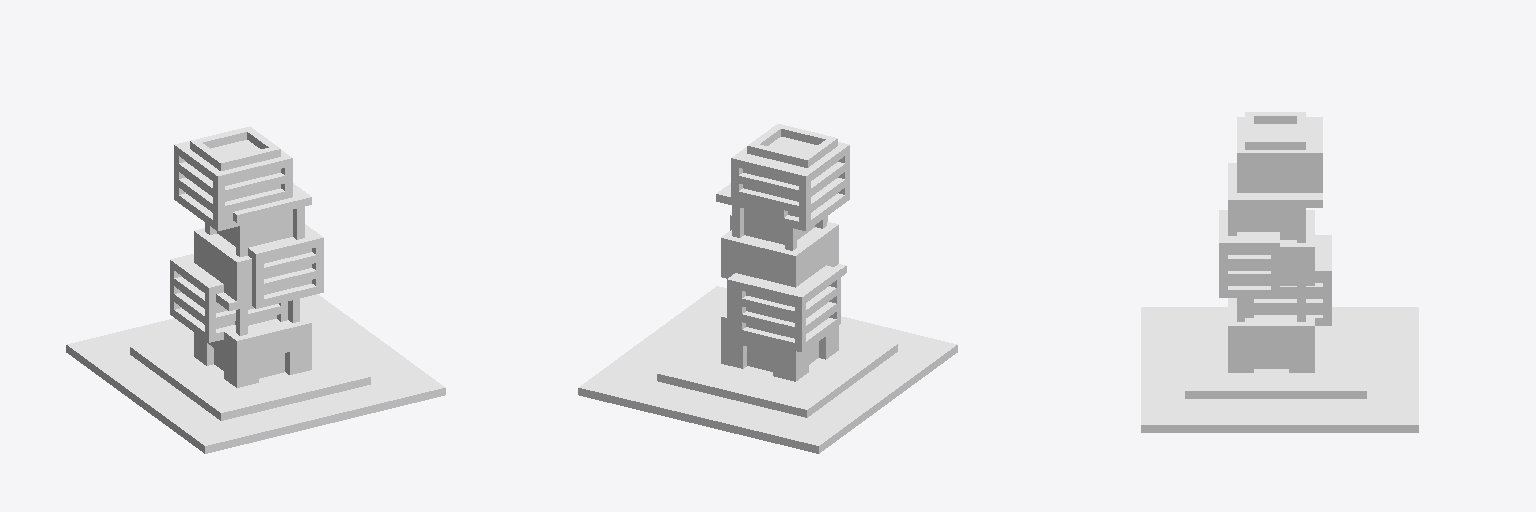
The model's file is brut-@.obj.
The picture shows the model from 3 angles: view 1: azimuth 30°, elevation 25°; view 2: azimuth 150°, elevation 25°; view 3: azimuth 270°, elevation 25°; orthographic projection.
Parts seen in each view (by area): view 1: object 1; view 2: object 1; view 3: object 1.
Boxes of the visible parts, x1=… form: object 1: x1=66, y1=126, x2=445, y2=453; object 1: x1=578, y1=124, x2=957, y2=453; object 1: x1=1141, y1=112, x2=1418, y2=432.
Bounding box in the file's own units: 3.2 × 3 × 3.2.